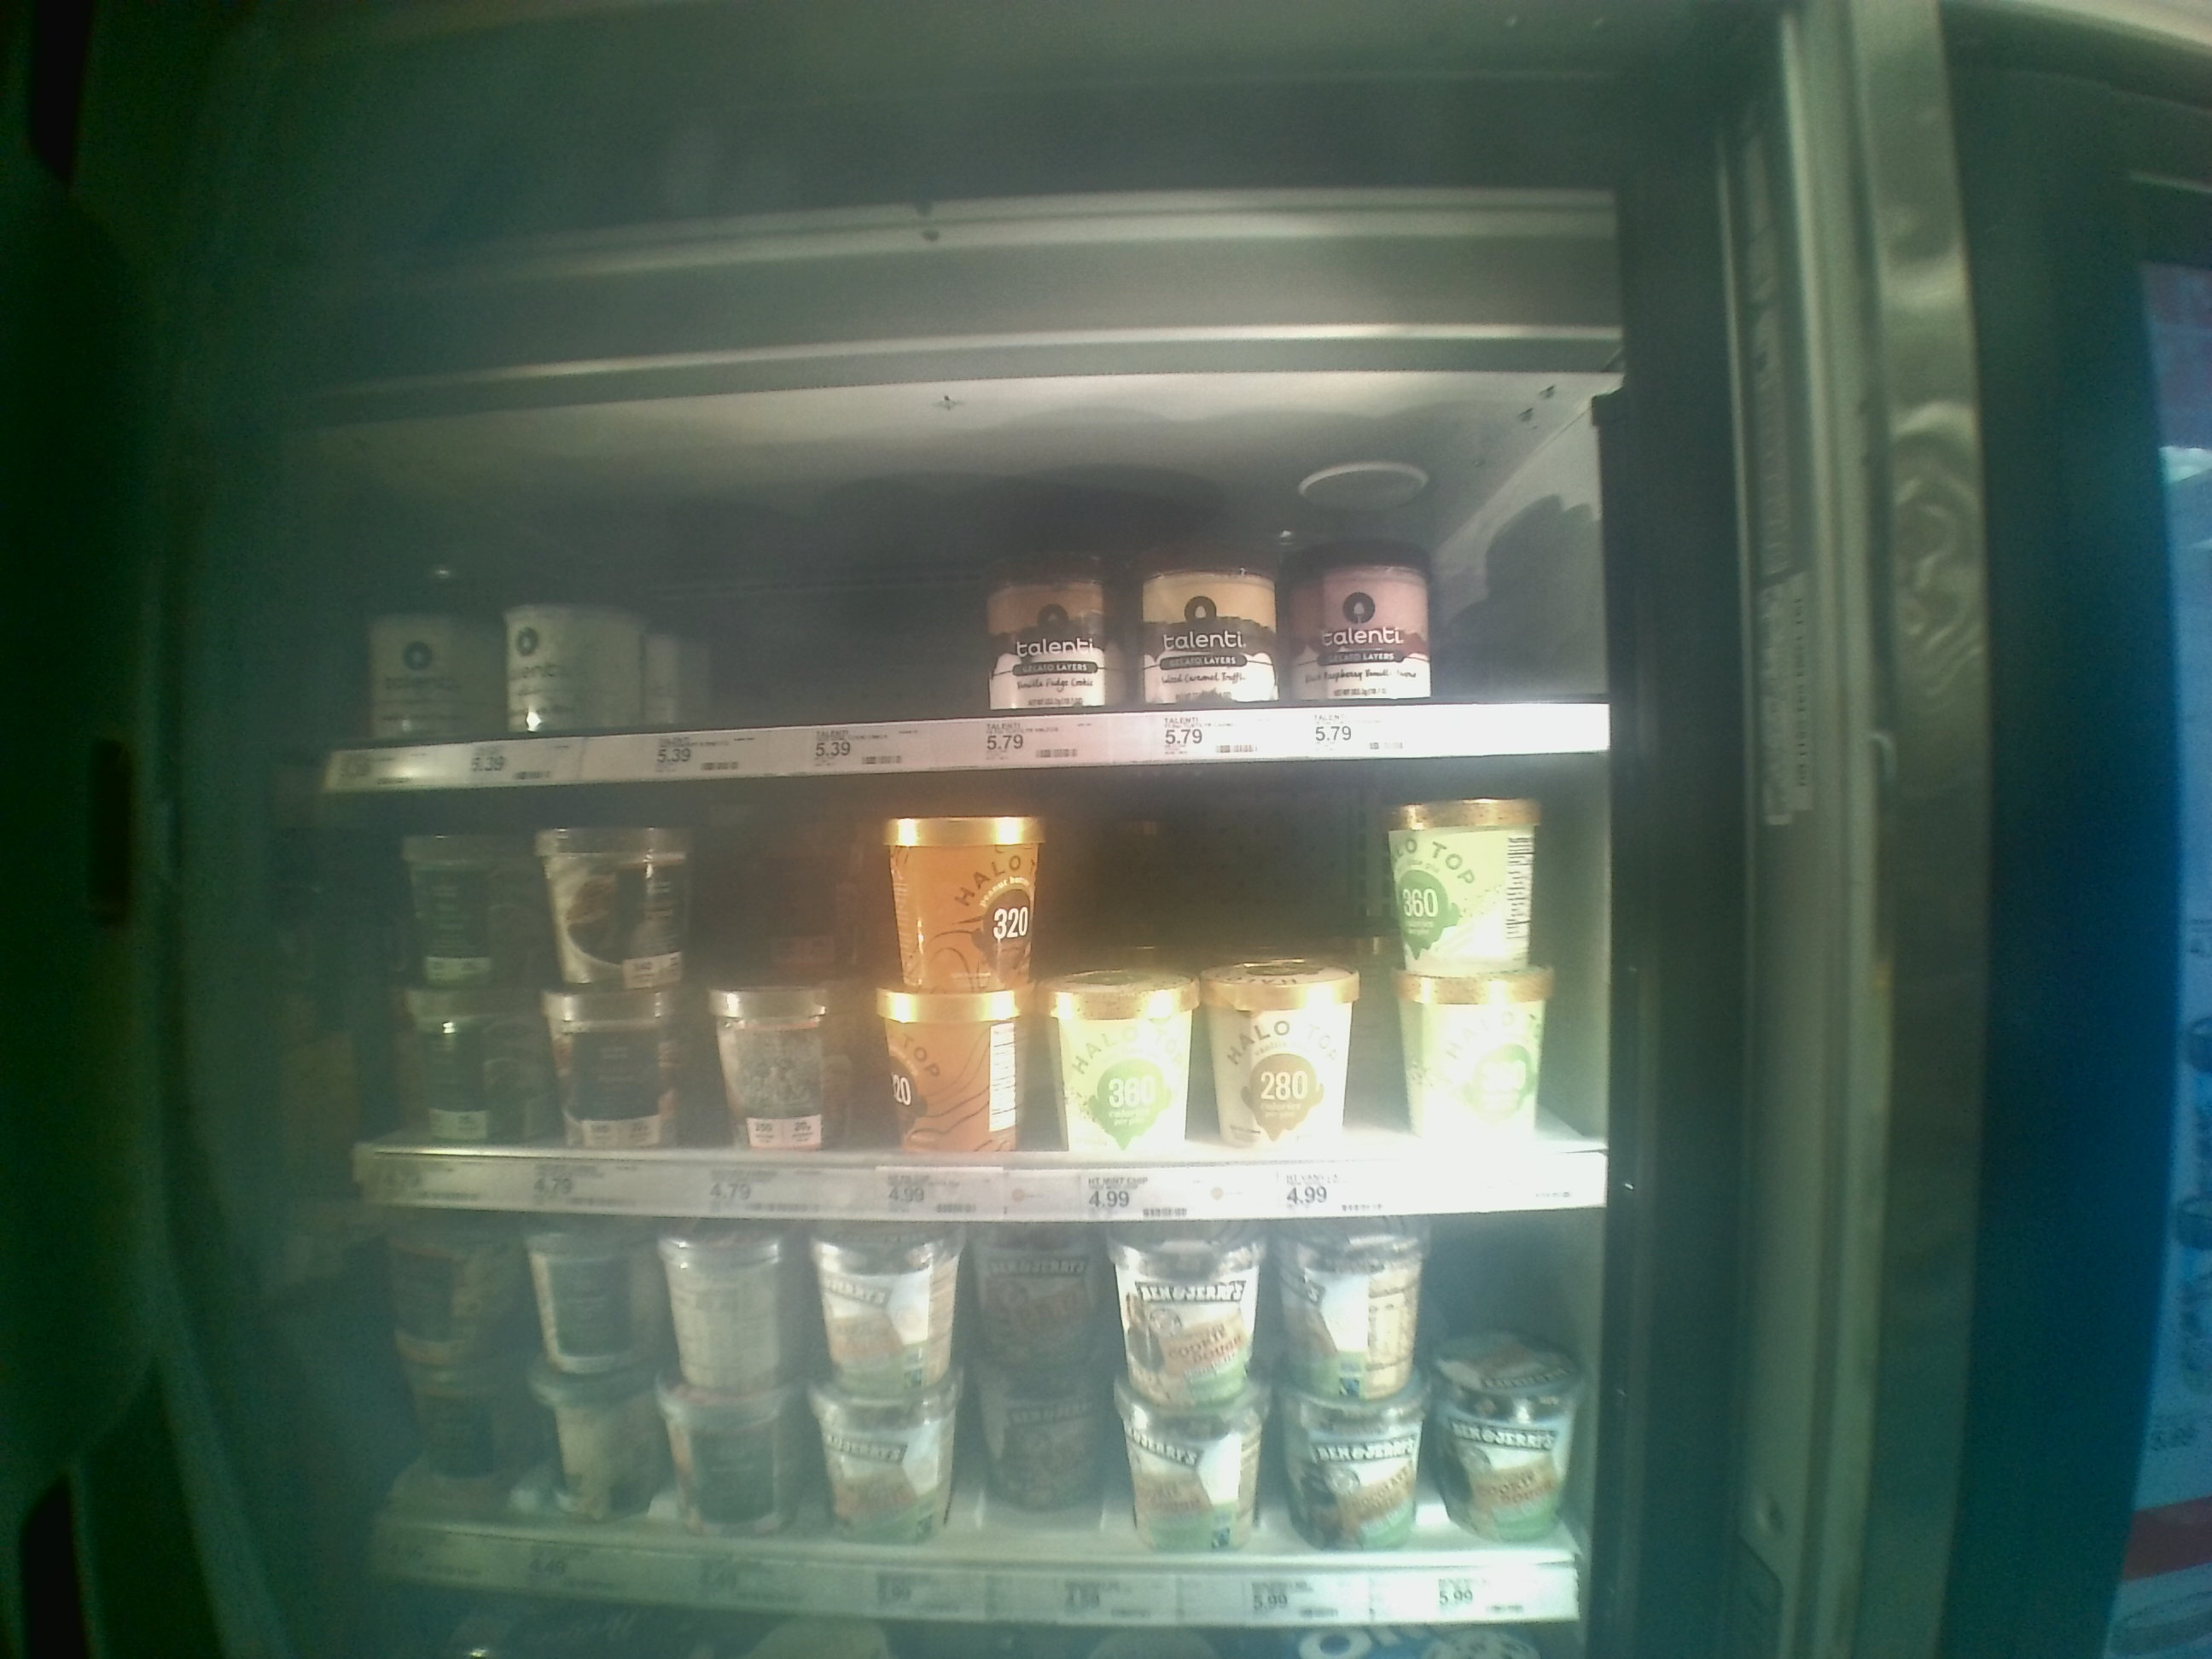ice-cream-shelf: (315, 762, 1616, 1208), (315, 1213, 1599, 1629), (324, 420, 1609, 762)
